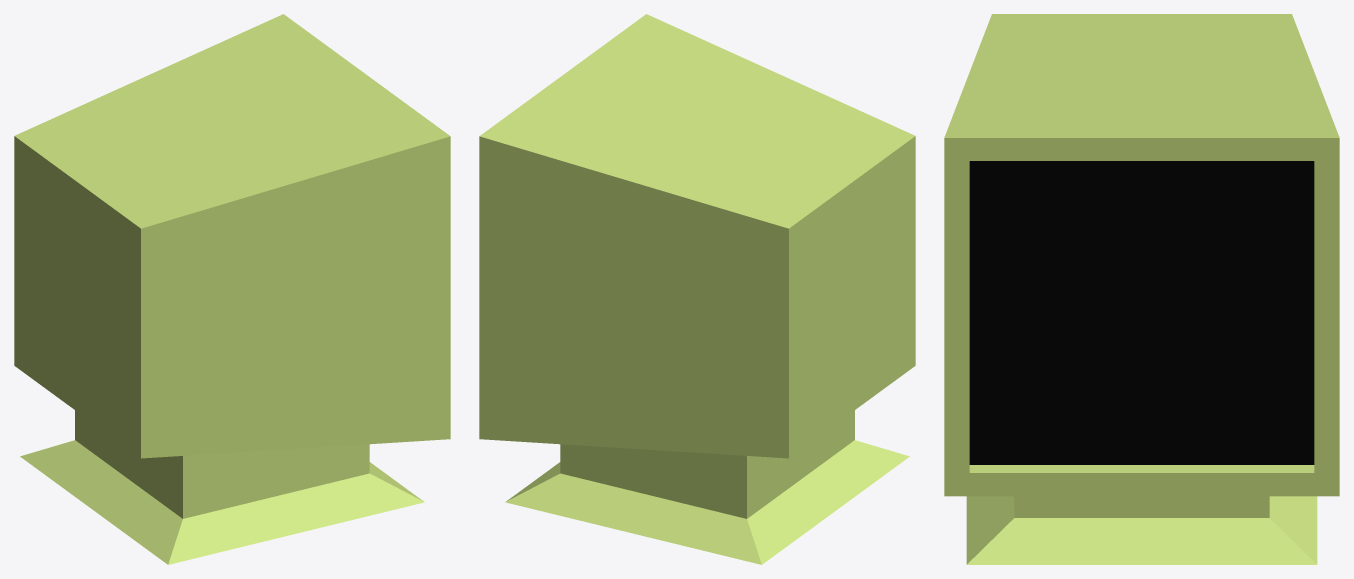
File: computer.fbx
3 renders of one model, left to right at view 1: azimuth 30°, elevation 25°; view 2: azimuth 150°, elevation 25°; view 3: azimuth 270°, elevation 25°, orthographic. The views are drawn at different scales.
Parts seen in each view (by area): view 1: Computer; view 2: Computer; view 3: Computer.
Part boxes in pixels (x1,y1,x2,y2): Computer: (14, 14, 450, 564); Computer: (479, 14, 915, 564); Computer: (944, 14, 1339, 564).
Bounding box in the file's own units: 39.43 × 48.03 × 39.43.
